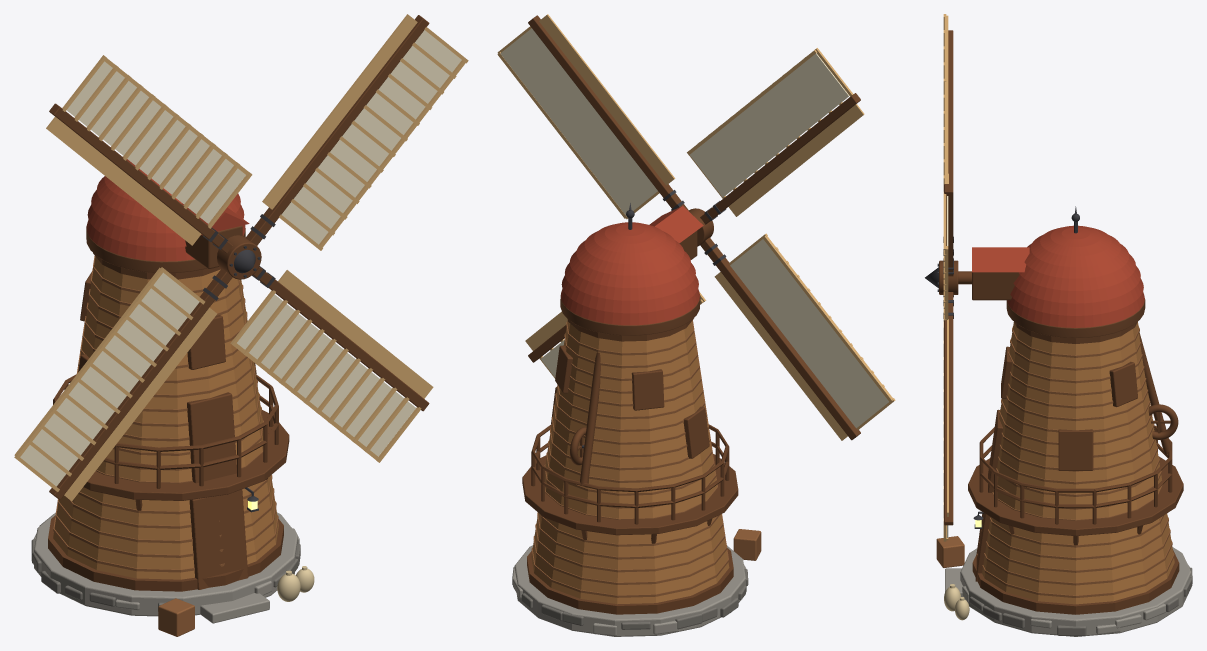
The model's file is gen_windmill.glb.
3 views of the same model, side by side, from view 1: azimuth 30°, elevation 25°; view 2: azimuth 150°, elevation 25°; view 3: azimuth 270°, elevation 25° (orthographic). The views are drawn at different scales.
Visible parts, largest first — view 1: windmill_sails, gen_windmill; view 2: gen_windmill, windmill_sails; view 3: gen_windmill, windmill_sails.
Part boxes in pixels (<box>): windmill_sails: <box>14,14,468,501</box>; gen_windmill: <box>31,159,314,636</box>; gen_windmill: <box>512,203,761,636</box>; windmill_sails: <box>497,14,895,440</box>; gen_windmill: <box>936,206,1192,636</box>; windmill_sails: <box>925,14,971,541</box>.
Size of the model in its own units: 11.78 by 14.79 by 6.96.
1 material, 1 textured.
